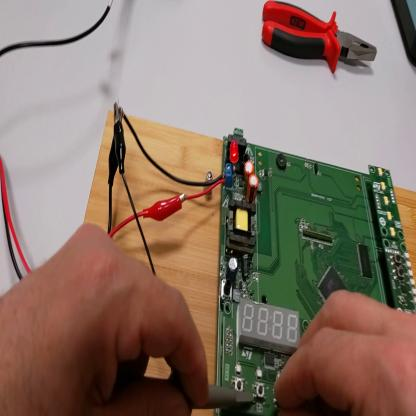hand: (1, 219, 209, 416), (276, 289, 415, 414)
low voltage board: (121, 115, 416, 416)
oscilloscope probe tip: (171, 371, 259, 413), (114, 101, 126, 172)
pliers: (261, 2, 380, 76)
welder station: (393, 3, 416, 70)
working area: (86, 107, 416, 412)
